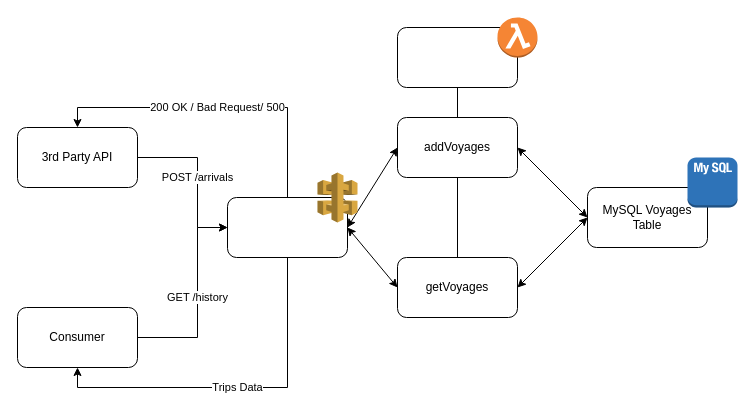
The diagram is 755 pixels wide and 413 high, and some of its shapes have lost their labels. Here are the shapes that lost their labels. From the top down, the box of each, then its label:
(396, 26, 518, 88): Lambda
(226, 196, 348, 258): API Gateway
